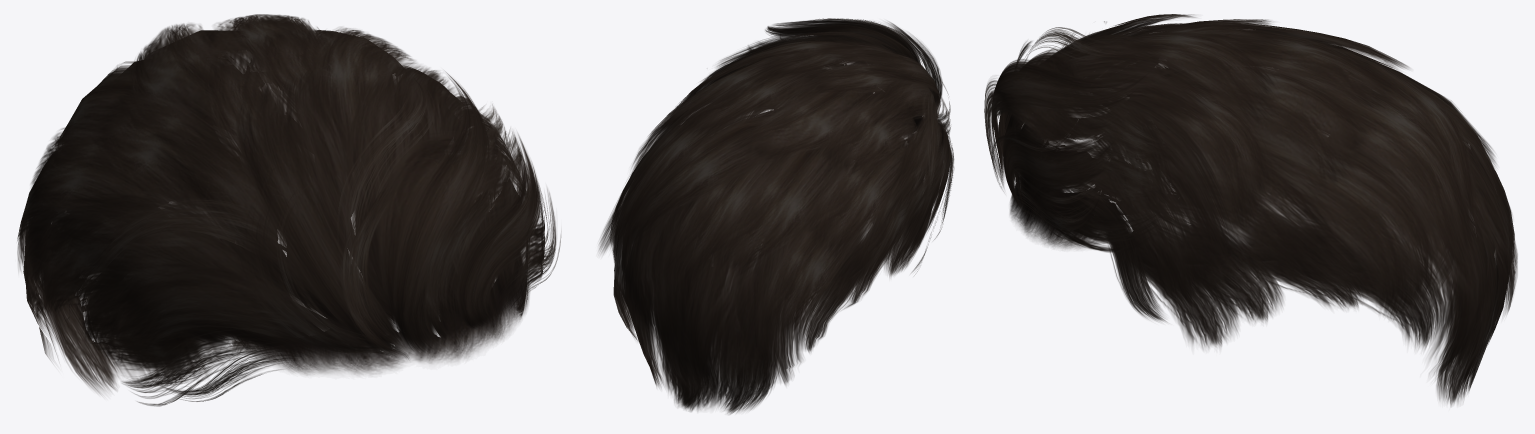
File: diamond_wavy_01 FrenchCrop3.glb
The picture shows the model from 3 angles, left to right: view 1: azimuth 30°, elevation 25°; view 2: azimuth 150°, elevation 25°; view 3: azimuth 270°, elevation 25°; orthographic projection. The views are drawn at different scales.
Parts seen in each view (by area): view 1: s4studio_mesh_3.002; view 2: s4studio_mesh_3.002; view 3: s4studio_mesh_3.002.
Part boxes in pixels (bbox=[...]): s4studio_mesh_3.002: bbox=[17, 14, 560, 406]; s4studio_mesh_3.002: bbox=[599, 18, 954, 414]; s4studio_mesh_3.002: bbox=[984, 14, 1517, 406].
Bounding box in the file's own units: 0.1647 × 0.1759 × 0.2329.
1 material, 1 textured.
